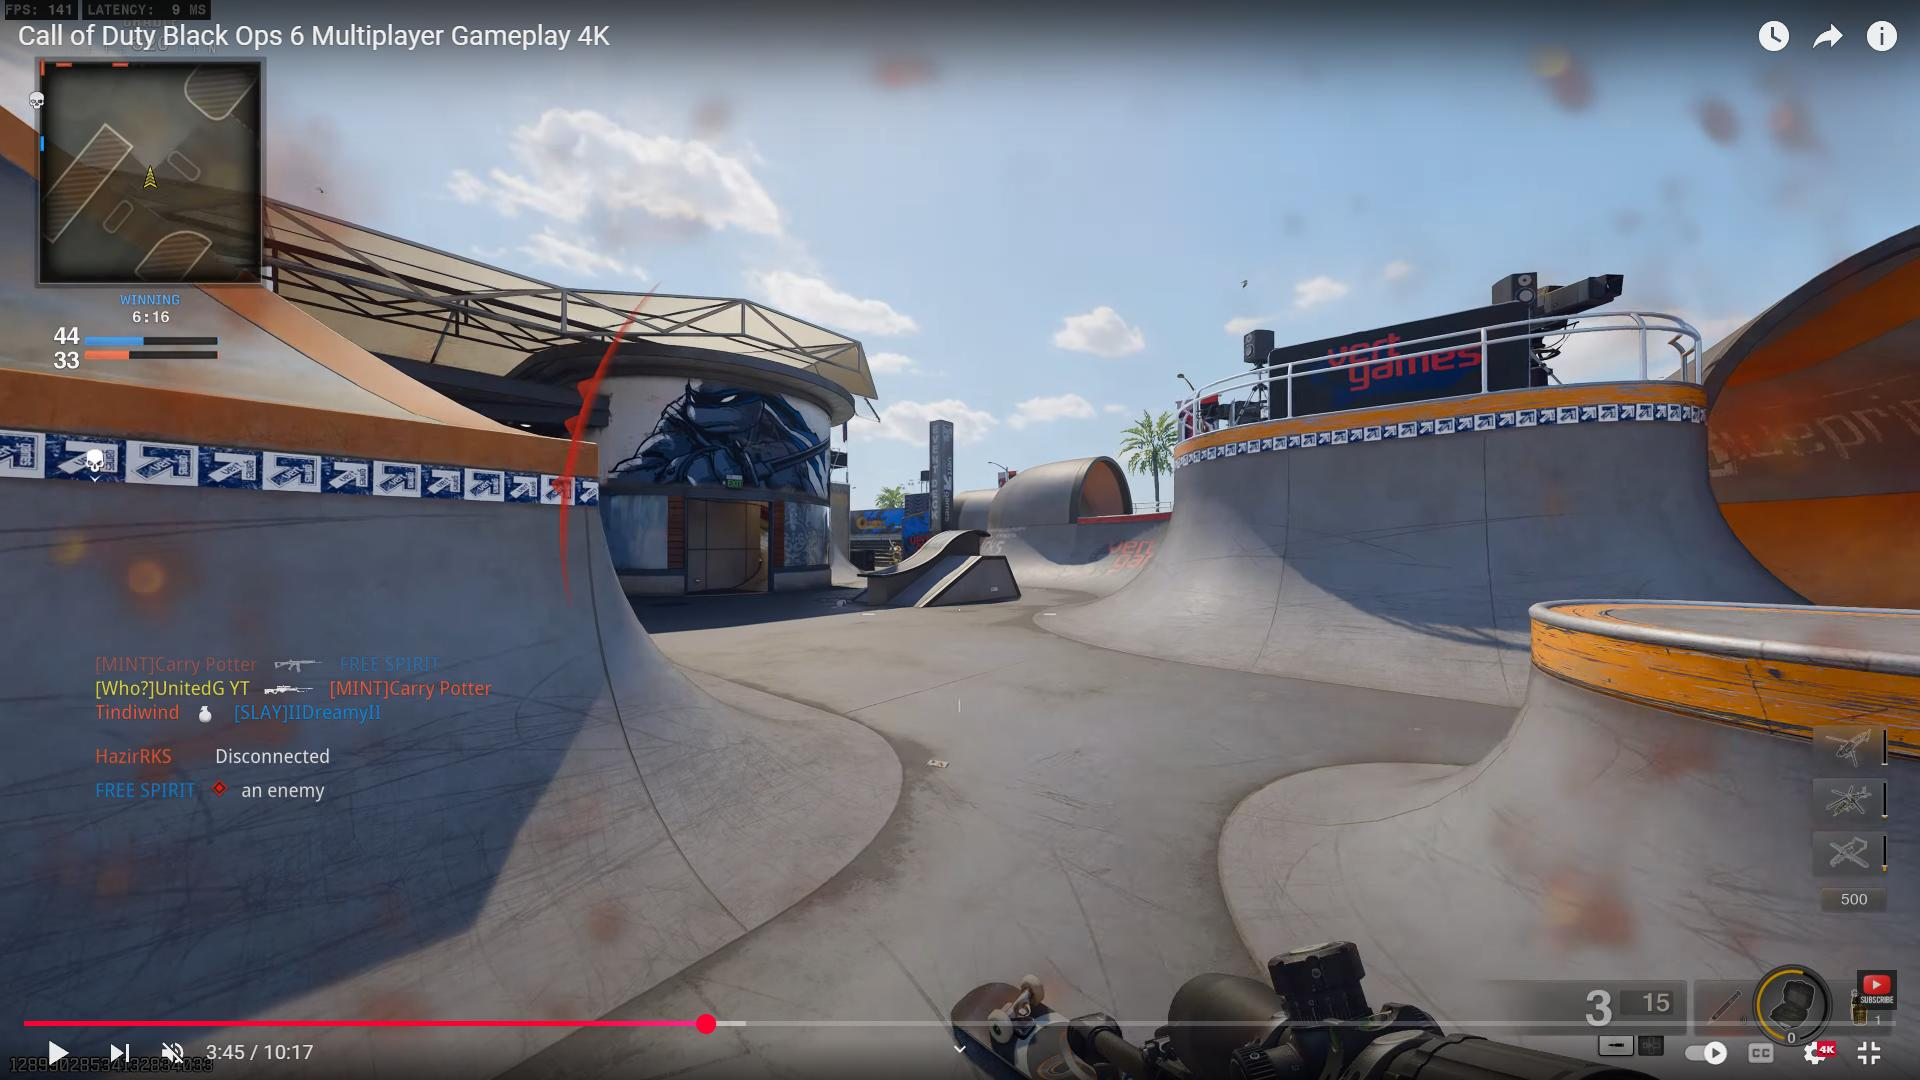Enemy: (889, 534, 903, 564)
